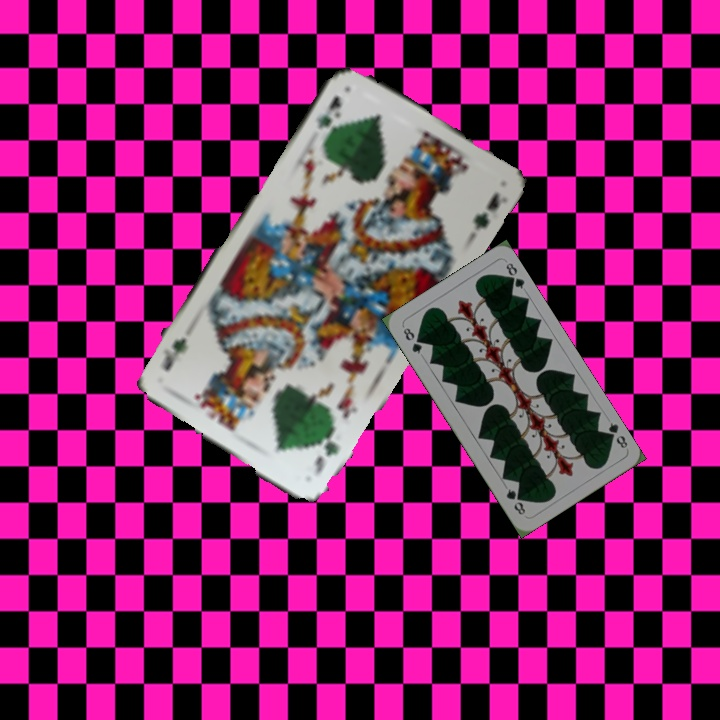G8: (601, 418, 630, 451), (399, 323, 425, 357)
GK: (310, 424, 342, 479), (311, 92, 345, 131)
